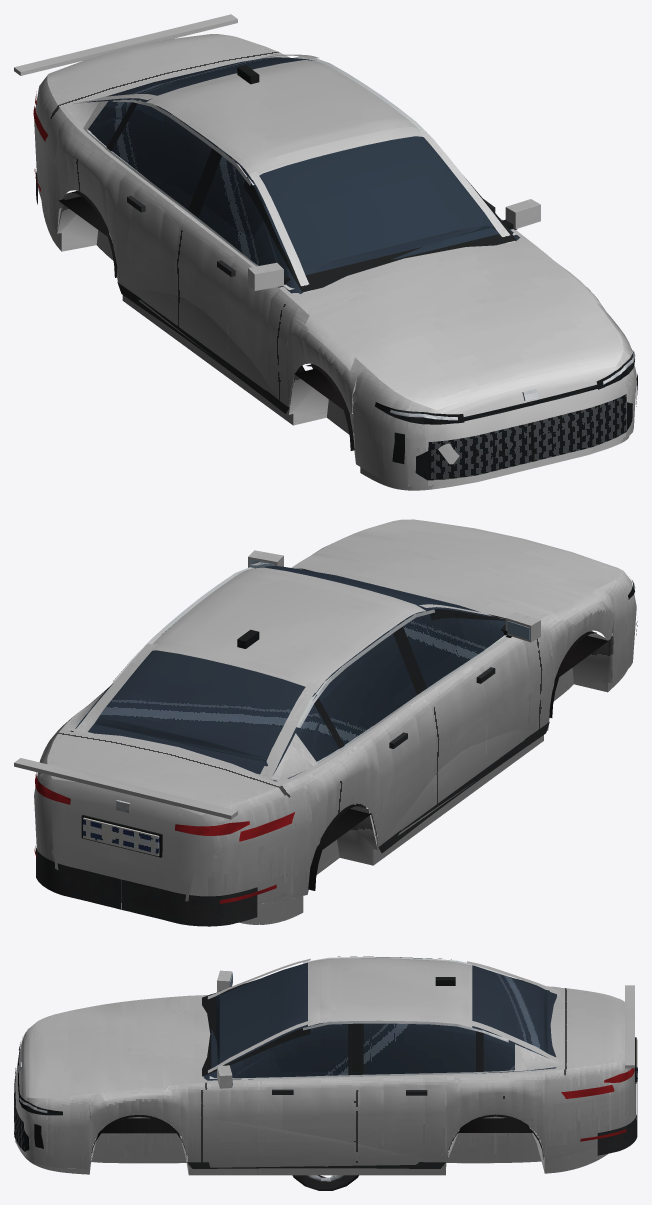
The model's file is kamden25.glb.
3 renders of one model, top to bottom at view 1: azimuth 30°, elevation 25°; view 2: azimuth 150°, elevation 25°; view 3: azimuth 270°, elevation 25°, orthographic. The views are drawn at different scales.
Parts seen in each view (by area): view 1: Paint, Body, Paint_far, Body_far; view 2: Paint, Body, Paint_far, Body_far; view 3: Paint, Body, Paint_far, Body_far, Wheel_far, Wheel.
Part boxes in pixels (x1,y1,x2,y2): Paint: (14, 19, 636, 490); Body: (33, 56, 637, 480); Paint_far: (14, 14, 561, 462); Body_far: (58, 57, 538, 413); Paint: (14, 519, 636, 924); Body: (34, 559, 637, 926); Paint_far: (14, 537, 615, 900); Body_far: (70, 567, 608, 857); Paint: (15, 958, 636, 1175); Body: (14, 957, 637, 1168); Paint_far: (87, 970, 636, 1175); Body_far: (17, 956, 637, 1133); Wheel_far: (305, 1175, 355, 1189); Wheel: (292, 1175, 358, 1190).
Bounding box in the file's own units: 1.98 × 1.82 × 4.94.
Materials: 3 (3 with a texture image).
